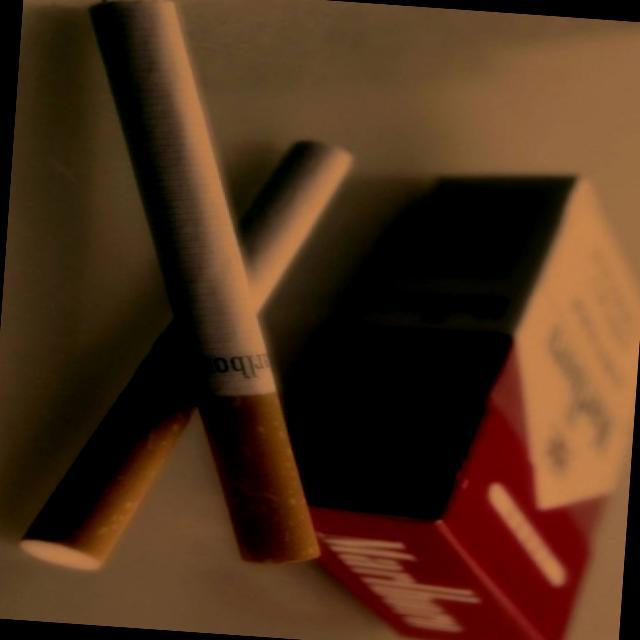cigarette: (49, 0, 362, 572)
